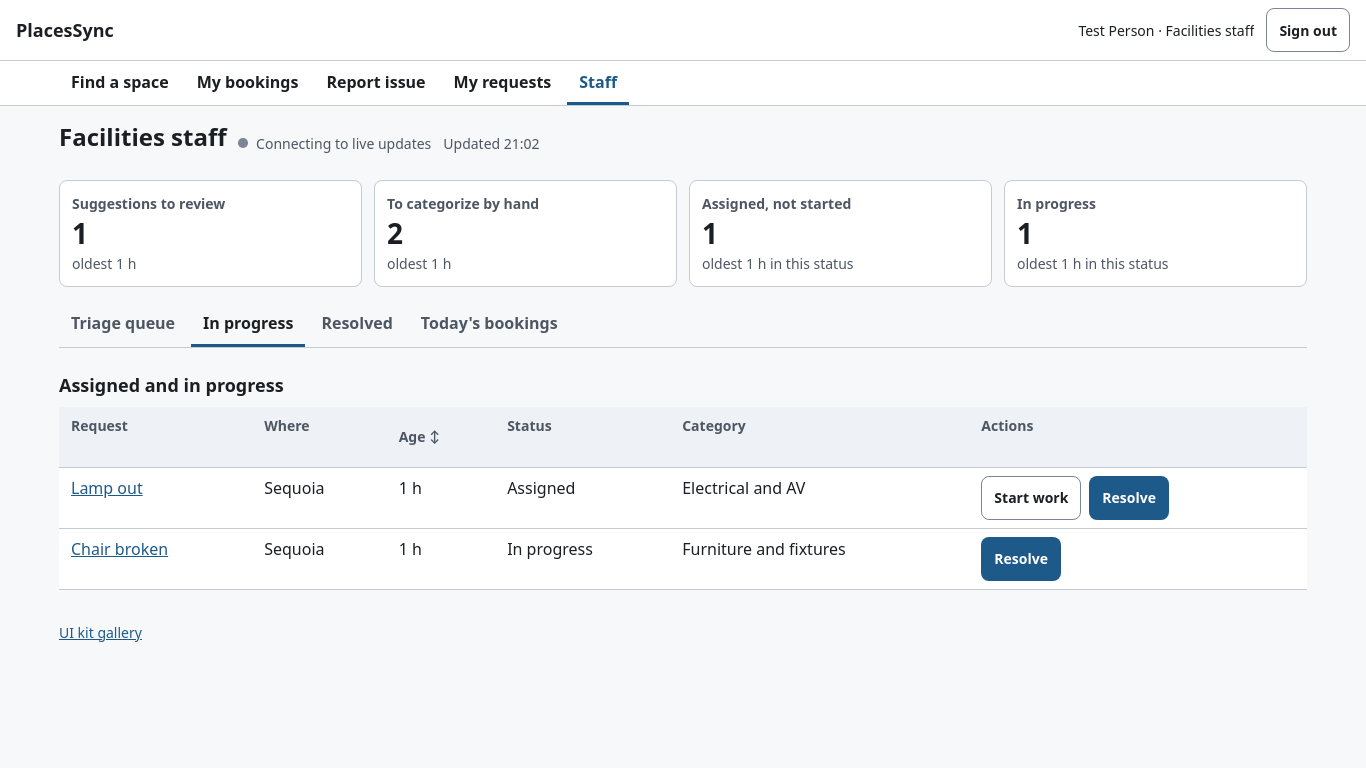
Resolving and save errors (UX-09) › a network failure says to check the connection: on the page for Start work, in the open dialog for Resolve
The image size is (1366, 768).
Expected: the link "Chair broken" is shown, [71,538,168,560]
Click the button named "Start work on Lamp out" at (1031, 498), box [981,476,1081,520]
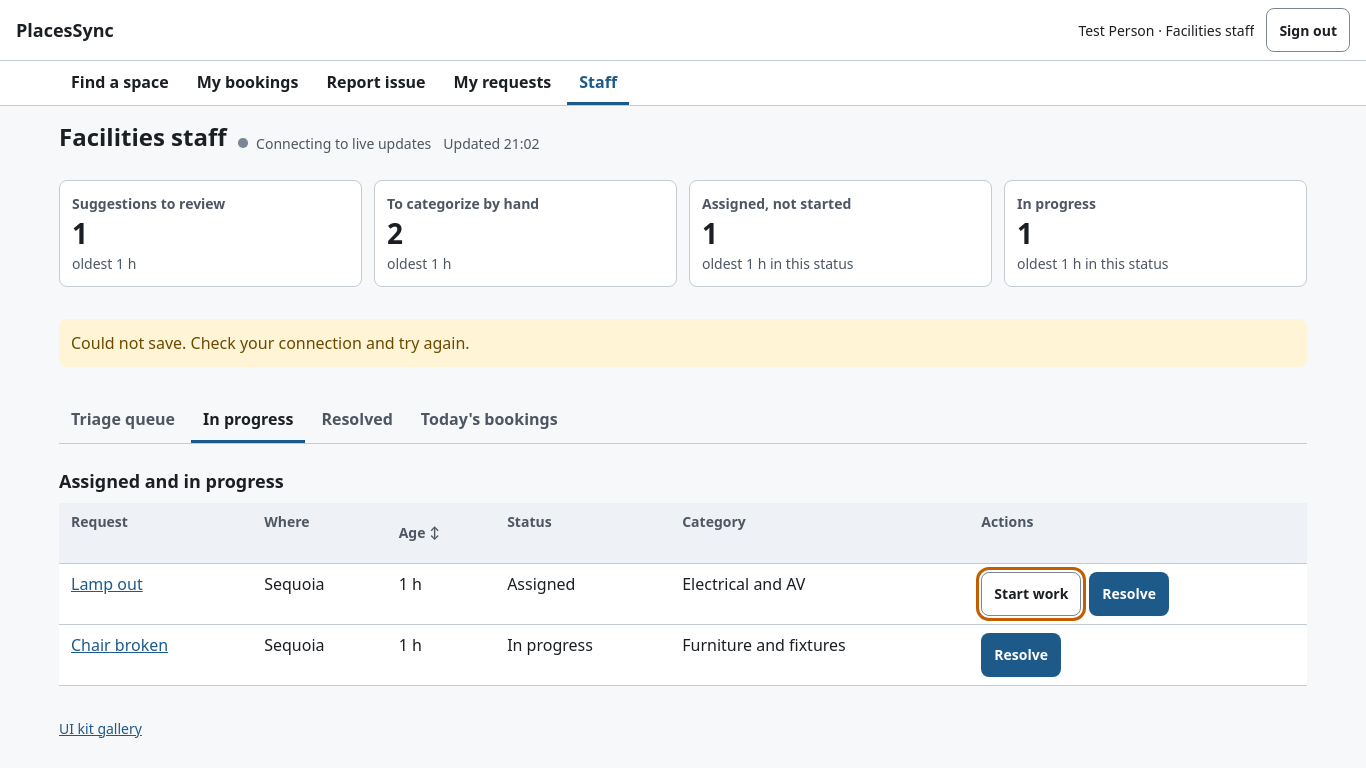
Now the text "Could not save. Check your connection and try again." is shown, box [59,319,1307,367]
Click the button named "Resolve Chair broken" at (1021, 655), box [981,633,1061,677]
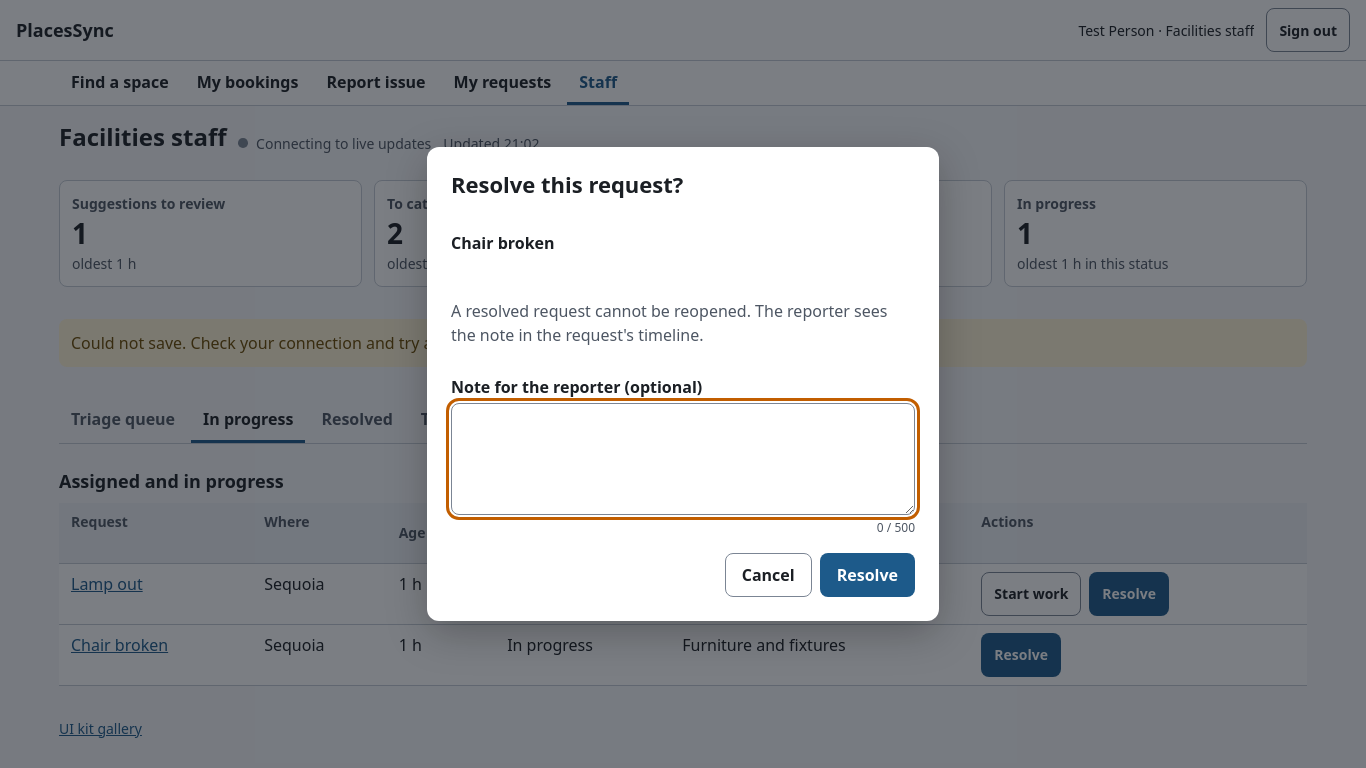
Type "Tightened the screws" into the text box labelled "Note for the reporter (optional)" at (683, 459), box [451,403,915,515]
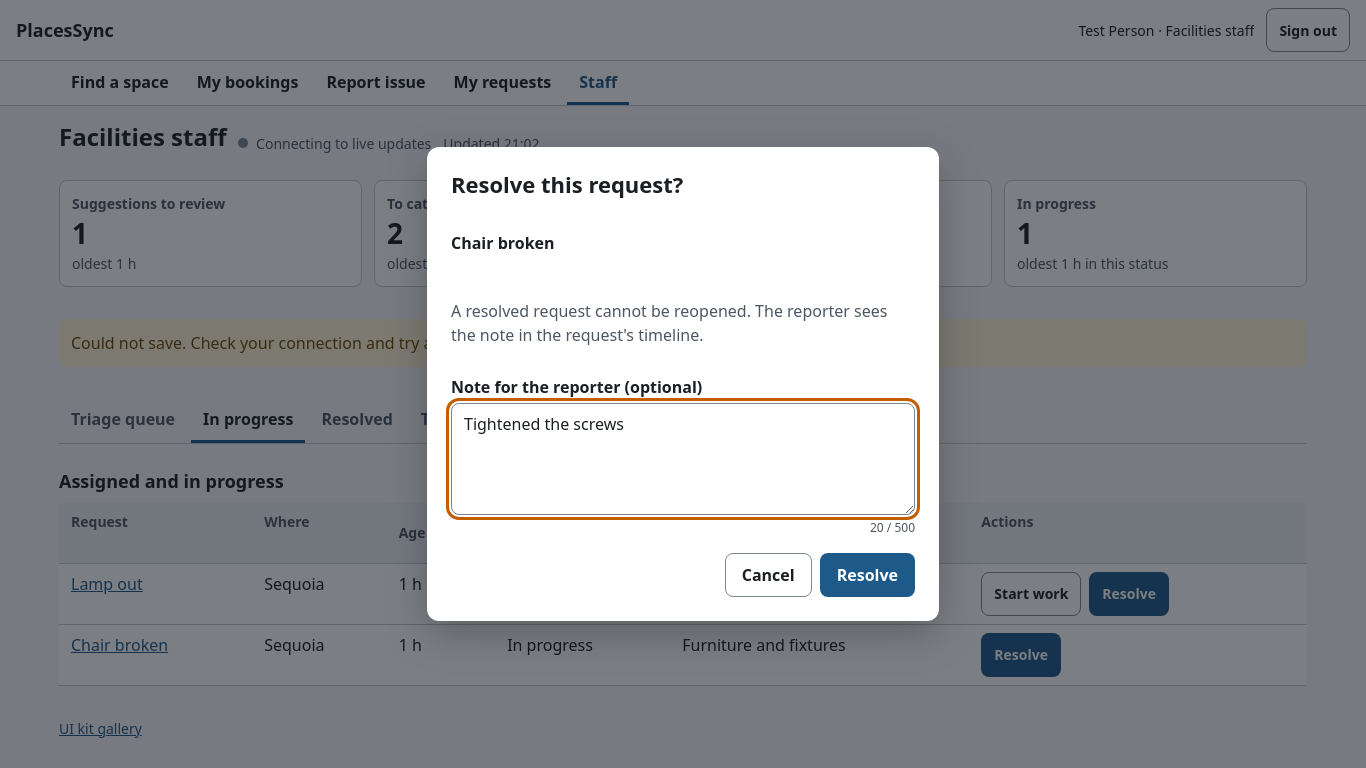
Click the button "Resolve" at (867, 575), box [820,553,915,597]
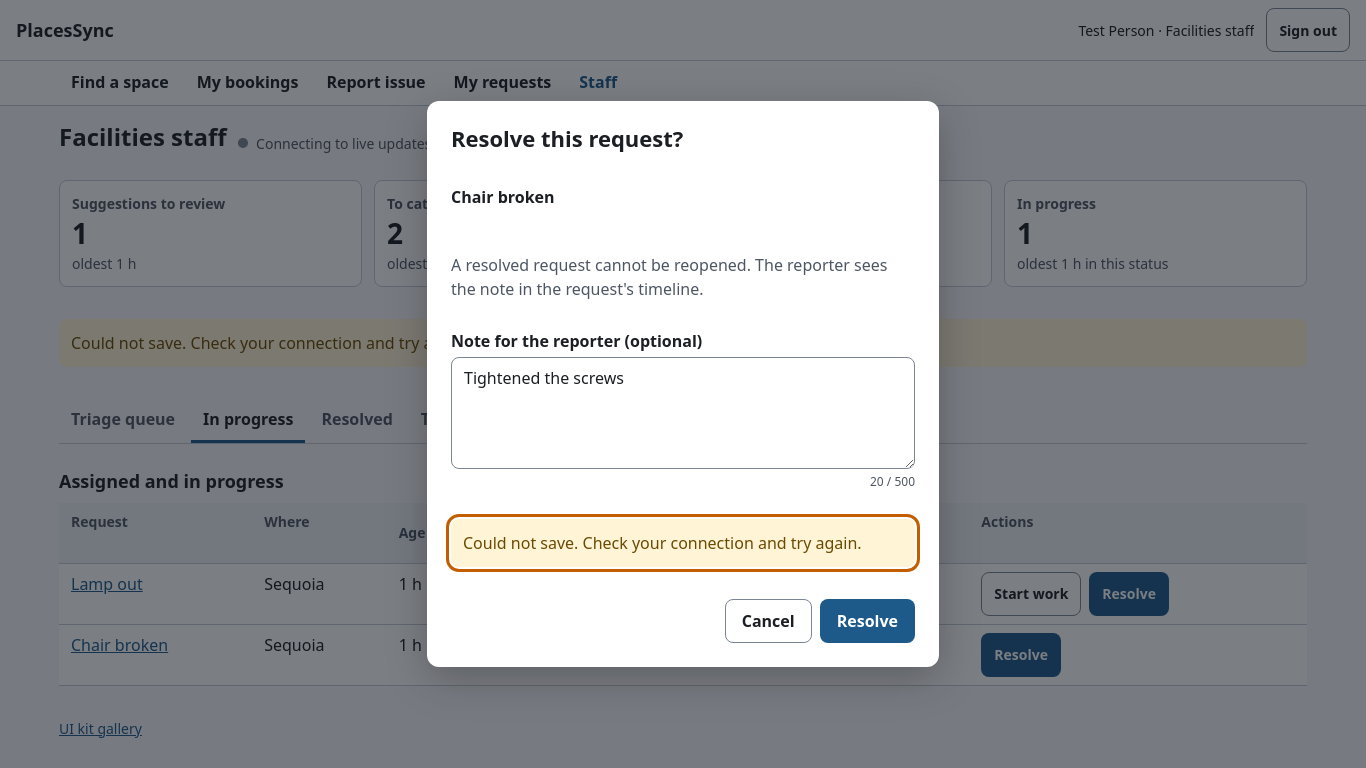
Now the dialog "Resolve this request?" is shown, box [427,101,939,667]
Now the text "Could not save. Check your connection and try again." is shown, box [451,519,915,567]
